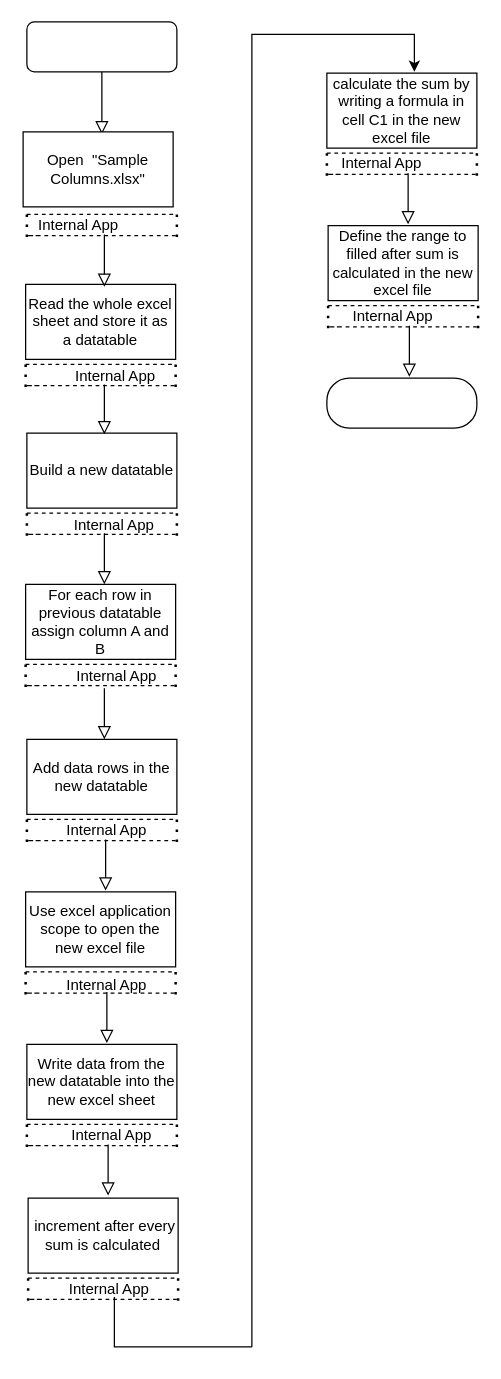
Image size: 501x1379. Some labels were removed from this diagram. Each missing label, with the centre of its shape:
"End" goes at point 401,402.
"Start" goes at point 101,46.
